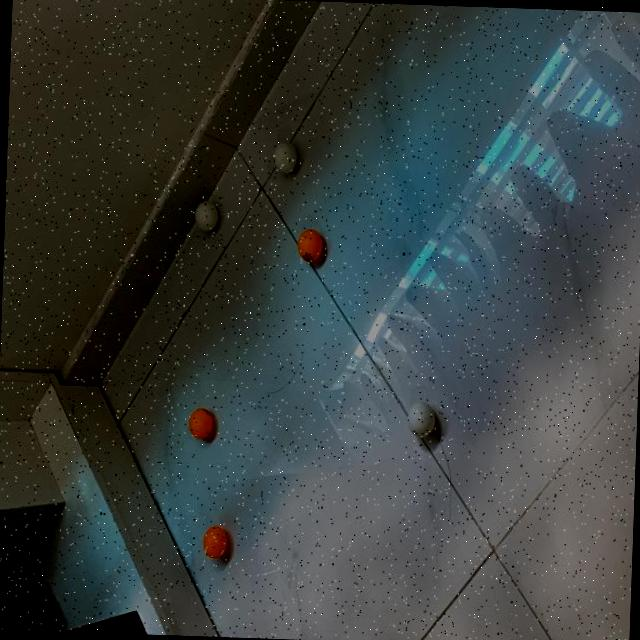ping-pong-ball: (405, 400, 436, 436), (294, 226, 323, 262), (200, 526, 228, 558), (192, 198, 220, 229), (188, 406, 214, 438), (274, 138, 298, 170)
